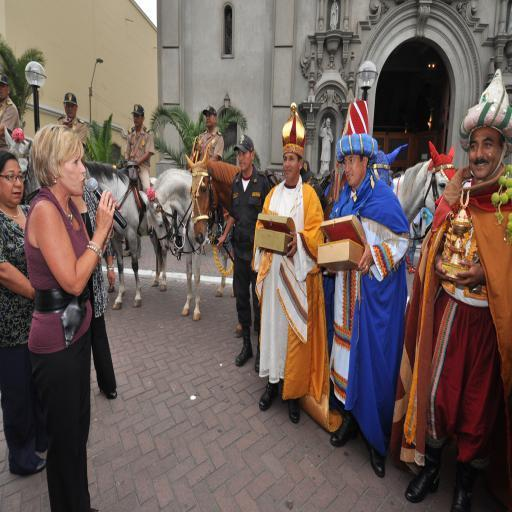horse: (146, 166, 236, 324), (83, 160, 169, 313), (184, 142, 242, 338), (183, 145, 288, 246), (306, 141, 410, 220), (392, 140, 456, 228), (5, 122, 45, 208)
